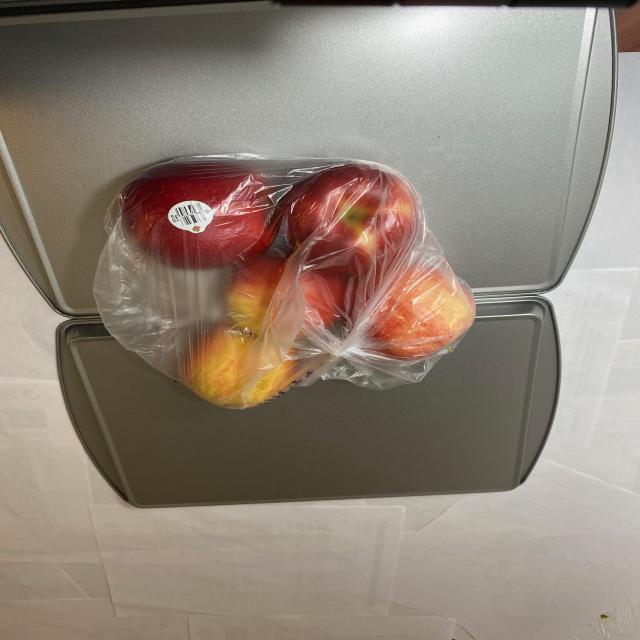apple: (102, 156, 484, 410)
